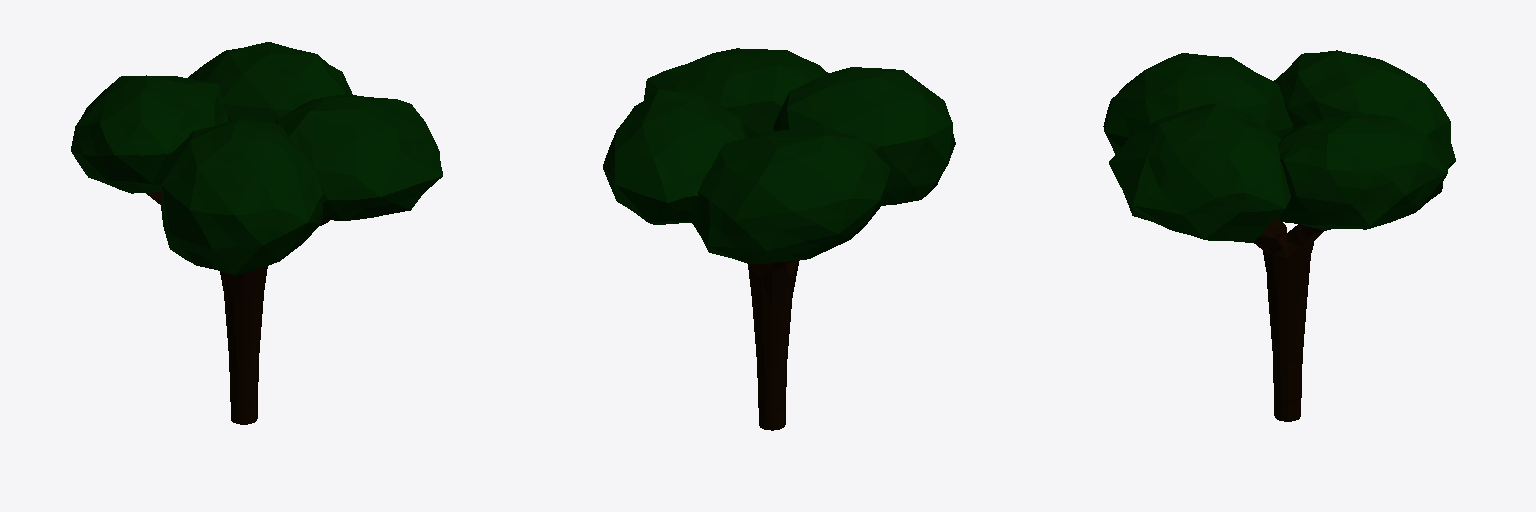
The model's file is TreeOakLarge.obj.
3 views of the same model, side by side, from view 1: azimuth 30°, elevation 25°; view 2: azimuth 150°, elevation 25°; view 3: azimuth 270°, elevation 25° (orthographic).
Visible parts, largest first — view 1: Large_Oak_Tree.007_Circle.026; view 2: Large_Oak_Tree.007_Circle.026; view 3: Large_Oak_Tree.007_Circle.026.
Part boxes in pixels (x1,y1,x2,y2): Large_Oak_Tree.007_Circle.026: (71, 42, 442, 424); Large_Oak_Tree.007_Circle.026: (603, 48, 955, 430); Large_Oak_Tree.007_Circle.026: (1103, 50, 1455, 421).
Size of the model in its own units: 3.9 by 4.29 by 4.18.